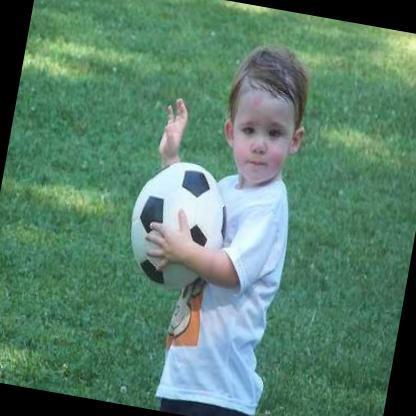ball: (120, 154, 237, 296)
